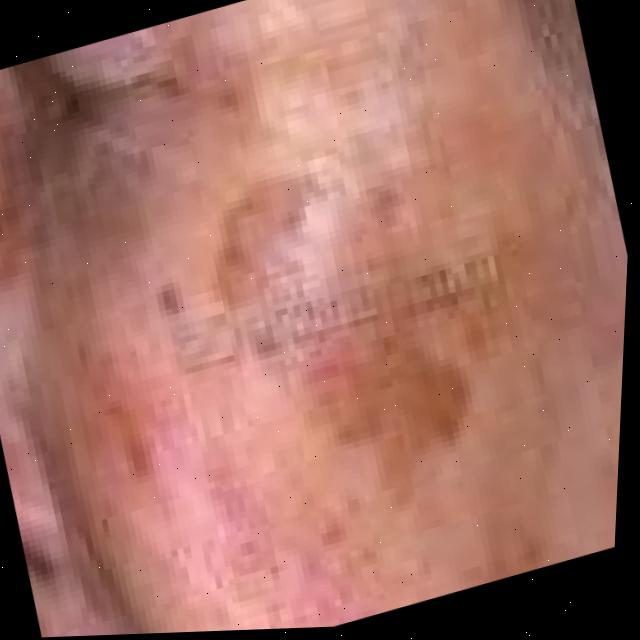Melasma: (205, 151, 564, 505)
